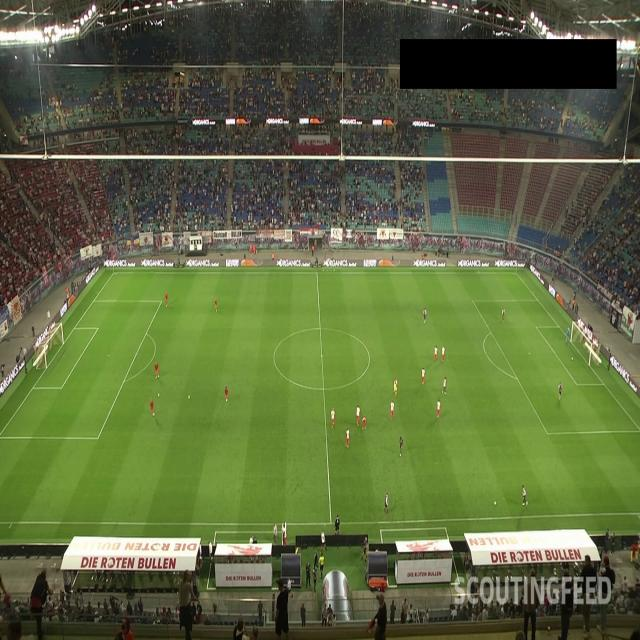ball: (492, 496, 498, 507), (570, 352, 575, 363), (187, 392, 191, 401), (157, 392, 161, 398)
player: (519, 482, 530, 506), (329, 406, 337, 430), (353, 401, 360, 428), (345, 424, 352, 448), (397, 432, 404, 455), (154, 359, 162, 377), (148, 395, 154, 417), (436, 398, 442, 419), (213, 297, 220, 314), (420, 365, 426, 384), (163, 288, 168, 310), (558, 380, 563, 402), (440, 344, 446, 362), (385, 488, 389, 514), (362, 412, 367, 430), (501, 306, 507, 321), (394, 374, 398, 396), (434, 343, 438, 365), (224, 385, 229, 401), (566, 323, 570, 342), (443, 372, 446, 395), (390, 404, 394, 421), (424, 306, 426, 324)
